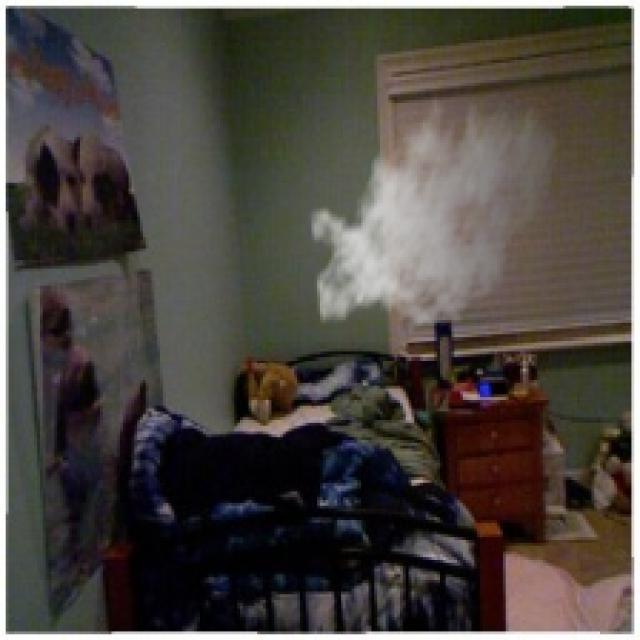smoke: (309, 83, 560, 337)
